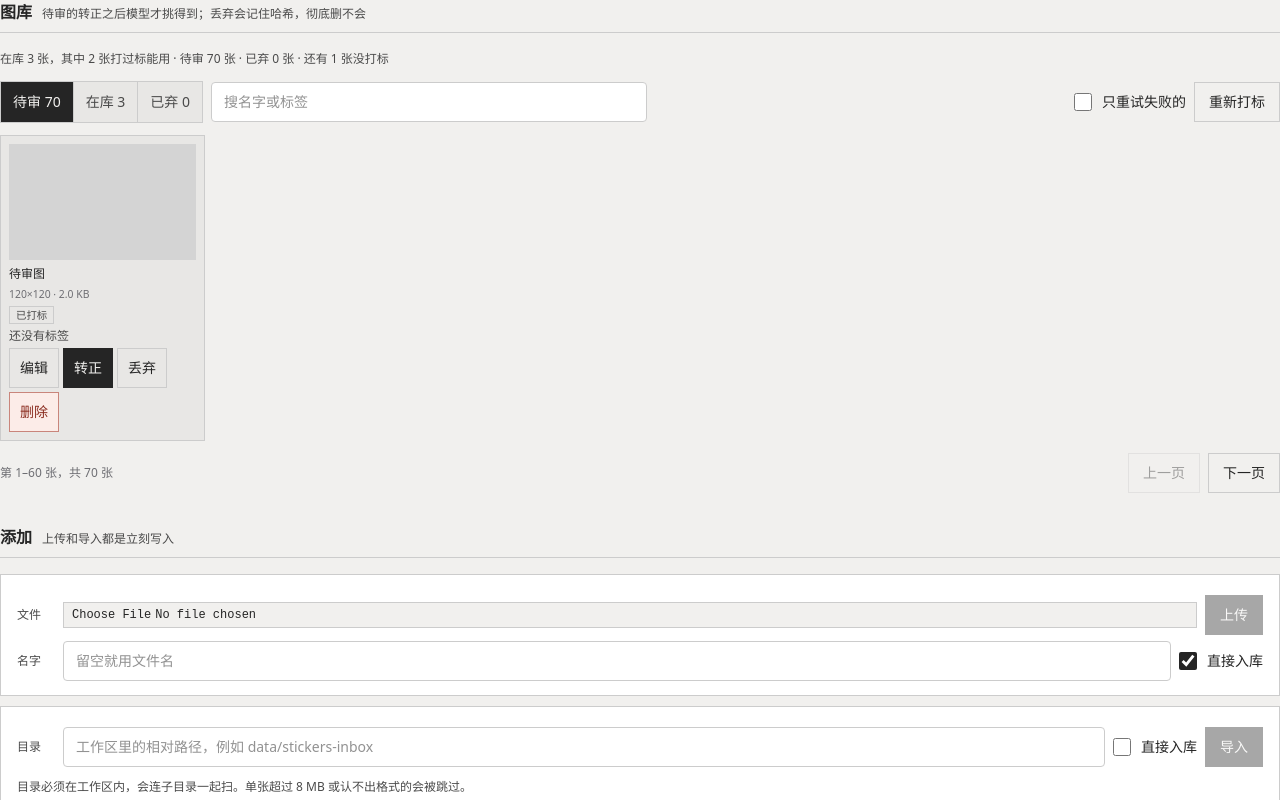
图库的那一句提示 › 操作结果留到下一次操作，中间读成功不擦掉
Check: the text "待审图" is shown, box [9,265,45,282]
Click the button "转正" at (88, 368), box [63,348,113,388]
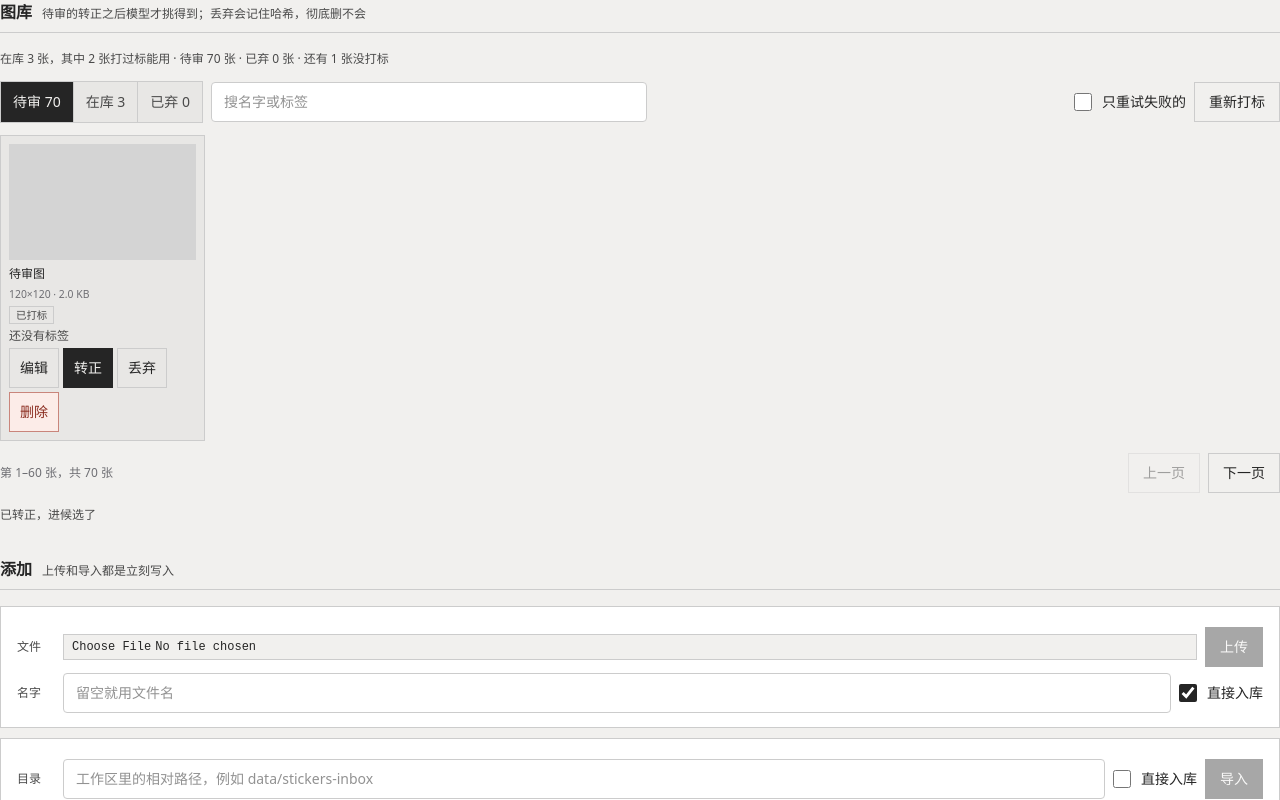
Check: the text "已转正，进候选了" is shown, box [0,506,96,523]
Click the button "在库 3" at (105, 102), box [73,82,137,122]
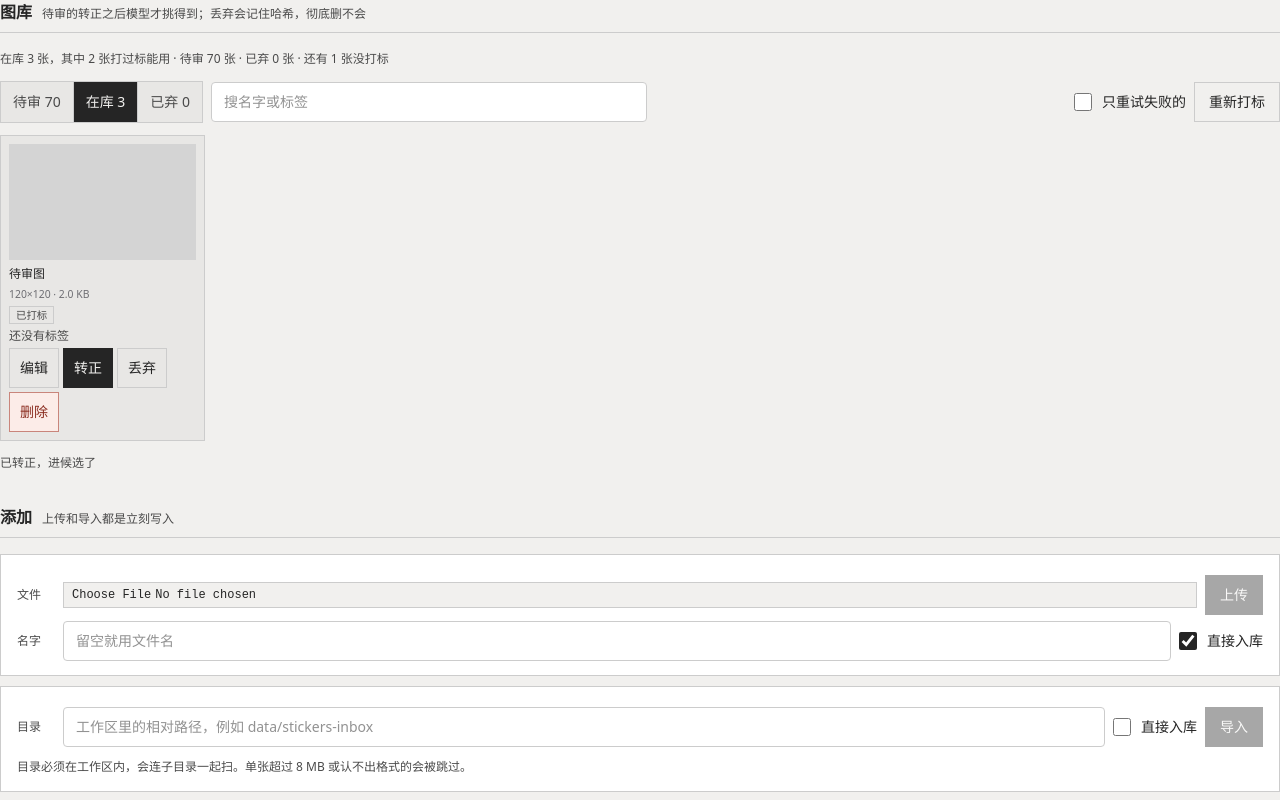
Check: the text "已转正，进候选了" is shown, box [0,454,96,471]
Click the button "转正" at (88, 368), box [63,348,113,388]
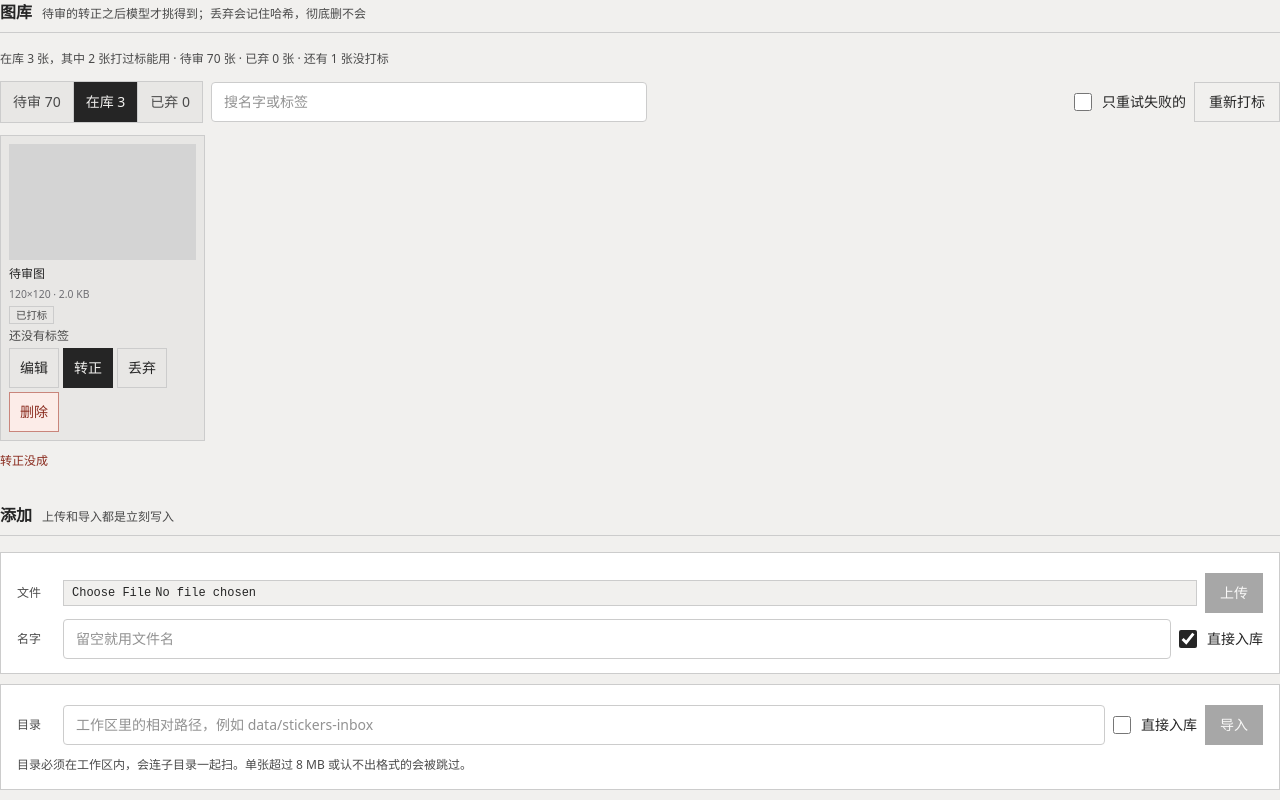
Check: the text "已转正，进候选了" is gone
